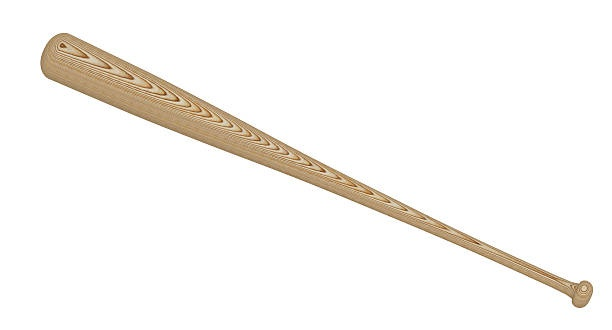bita: (38, 33, 588, 303)
